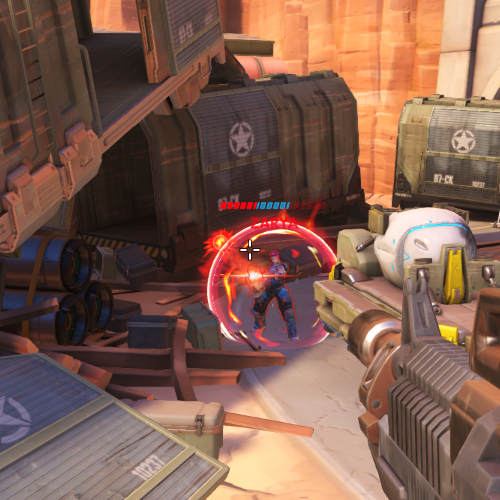hpbar: (219, 201, 327, 210)
